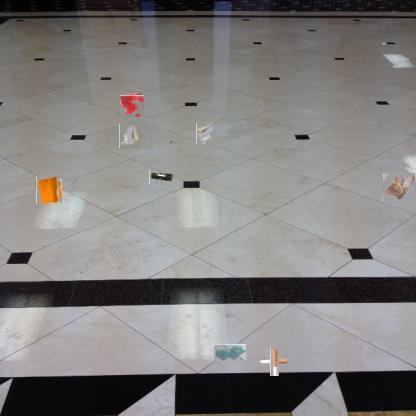dirty: (382, 173, 416, 201), (35, 178, 61, 203), (119, 124, 140, 148), (196, 122, 215, 144), (265, 352, 284, 371), (149, 170, 174, 184)
liquid: (214, 344, 246, 361), (122, 94, 143, 116)
